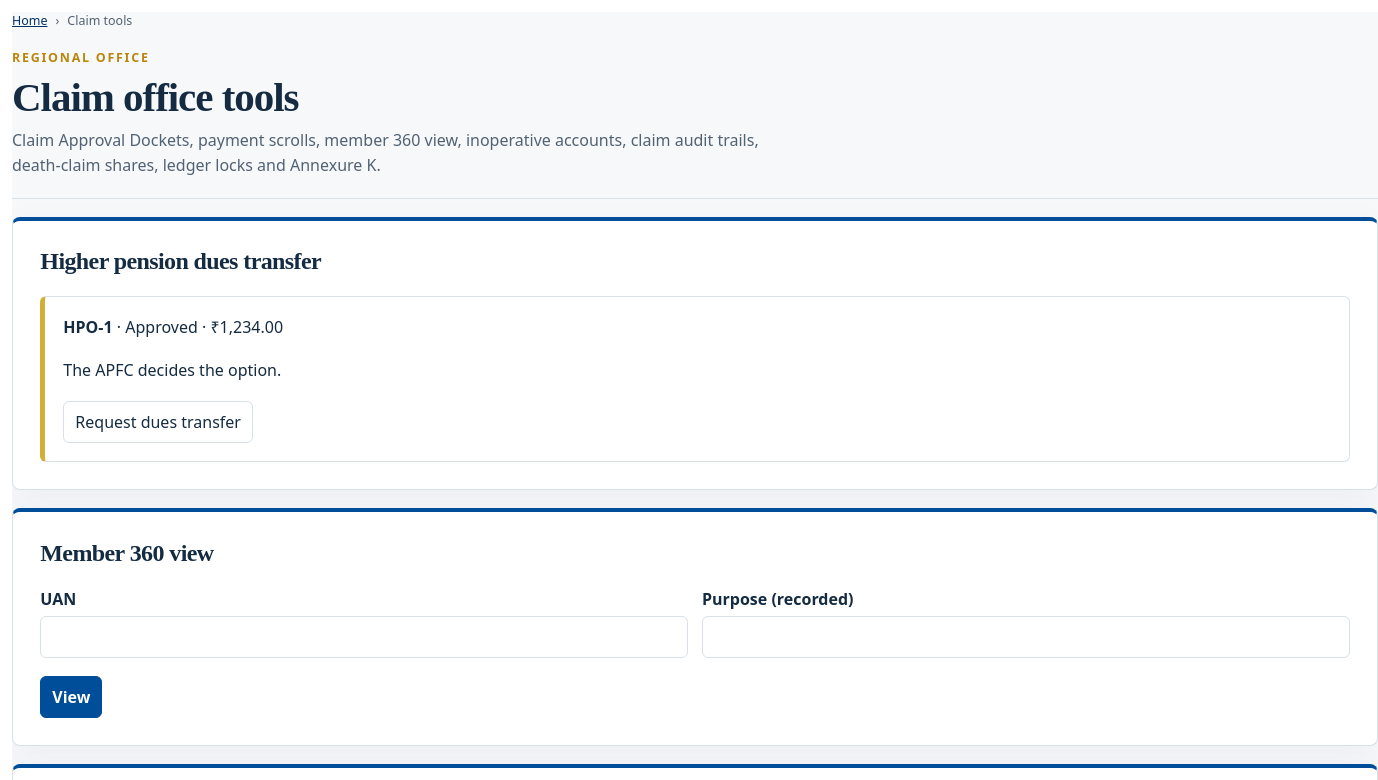
Test: requests transfer with step-up and an idempotency key
What coordinates should you click on to do the following:
click the button "Request dues transfer"
I would click on:
 (158, 422)
Its box is [63,401,253,443].
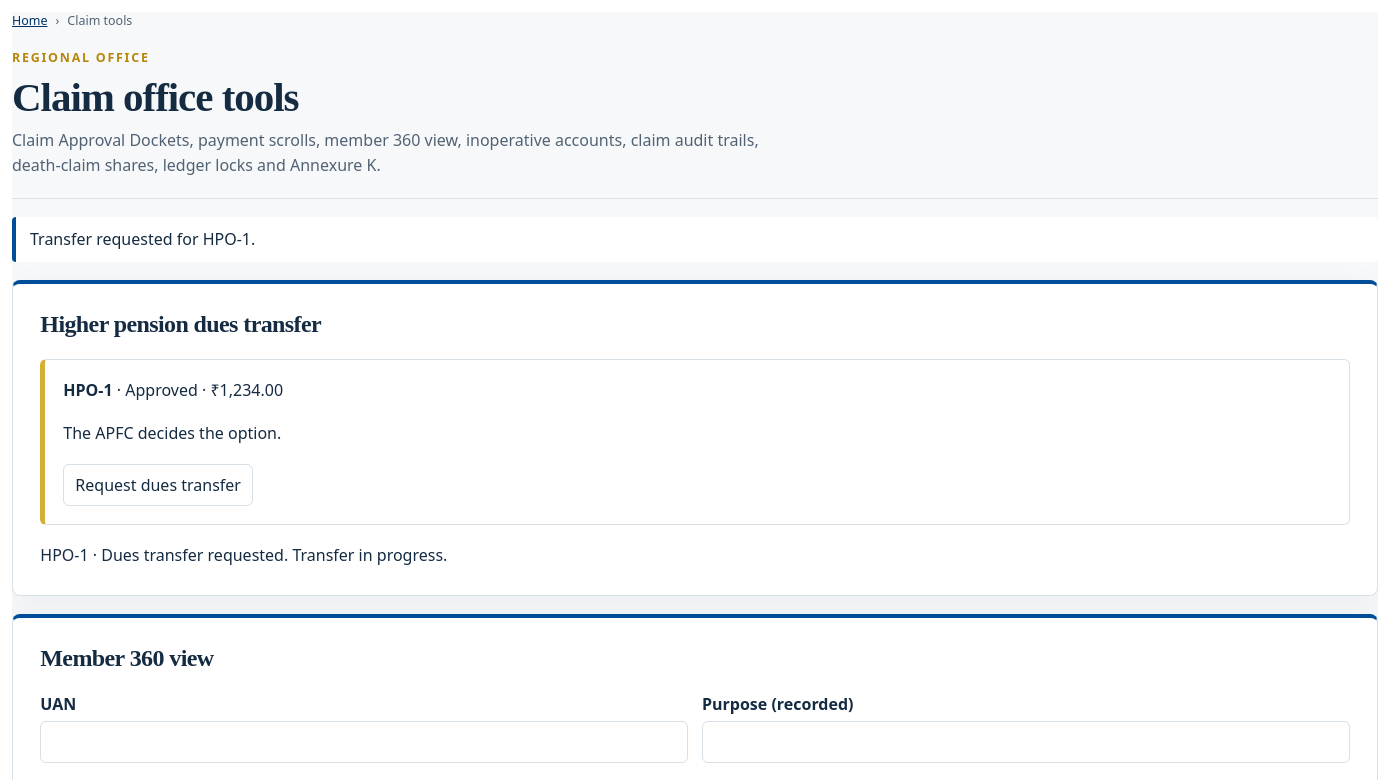
Expected: the text "HPO-1 · Dues transfer requested. Transfer in progress." is shown, [40,544,447,566]
